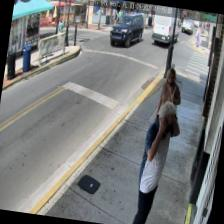person: (130, 99, 183, 224), (148, 65, 185, 166)
